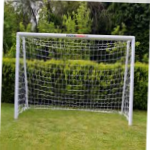goals: (12, 25, 136, 124)
